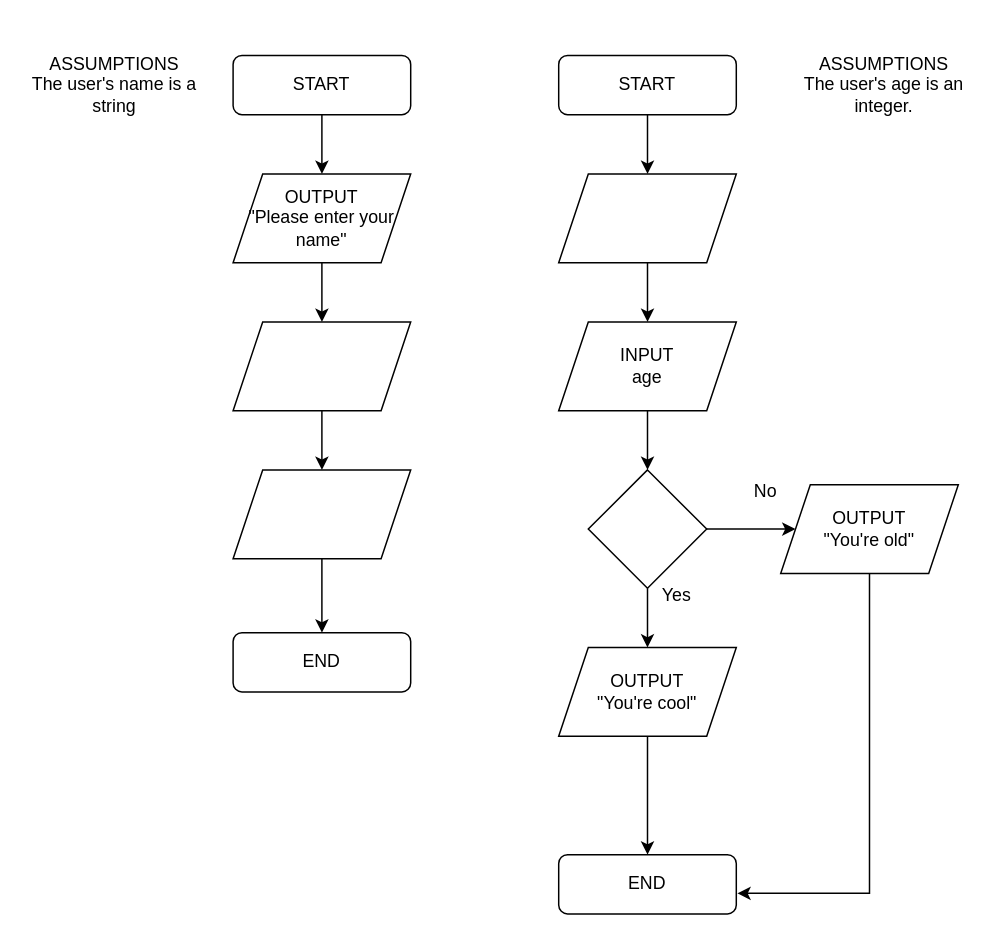
Image size: 998x940. Some labels were removed from this diagram. The shapes that lost their labels are listed below. From the top down, each one's centre as x and y in pixels, then its label:
point (646, 217): OUTPUT "Please enter your age"
point (321, 365): INPUT name
point (321, 513): OUTPUT "Hello, " + name
point (647, 528): if age < 25
